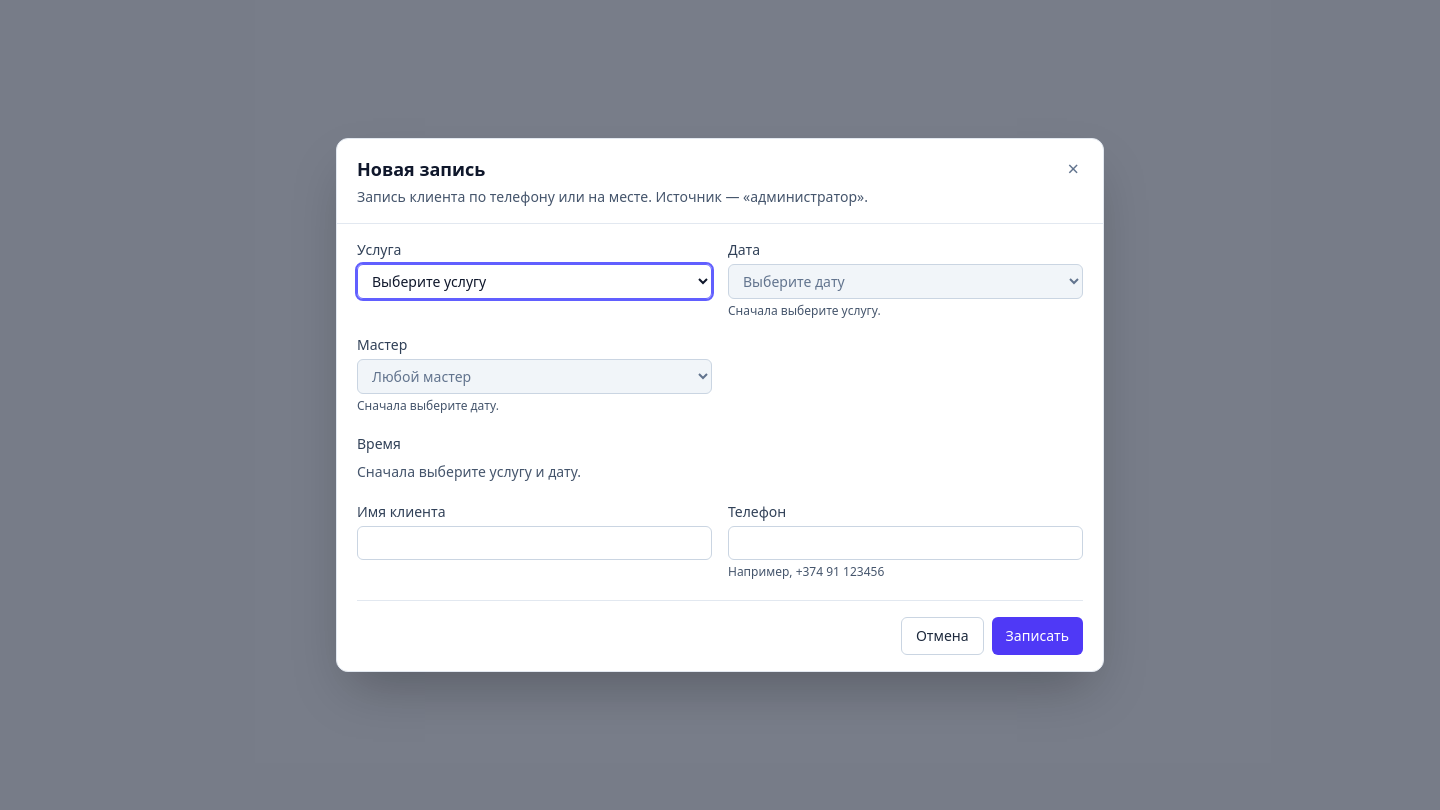
NewBookingDialog › проверяет поля на клиенте
Select "Мужская стрижка · 30 мин · 4 000 ֏" in the dropdown labelled "Услуга" at (534, 282), box [357,264,712,299]
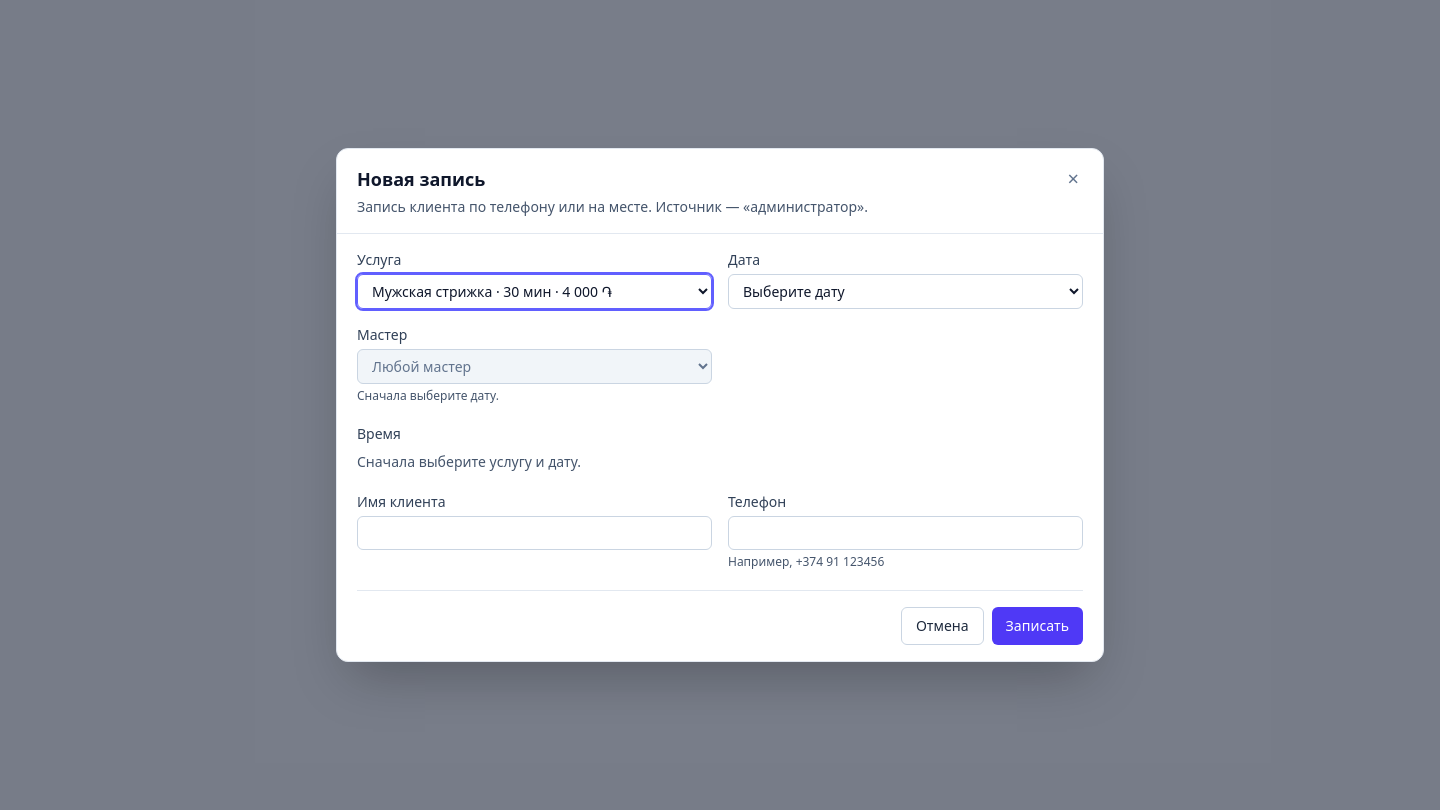
Expected: the dropdown labelled "Дата" is enabled
Select "Завтра, чт, 29 октября" in the dropdown labelled "Дата" at (906, 292), box [728,274,1083,309]
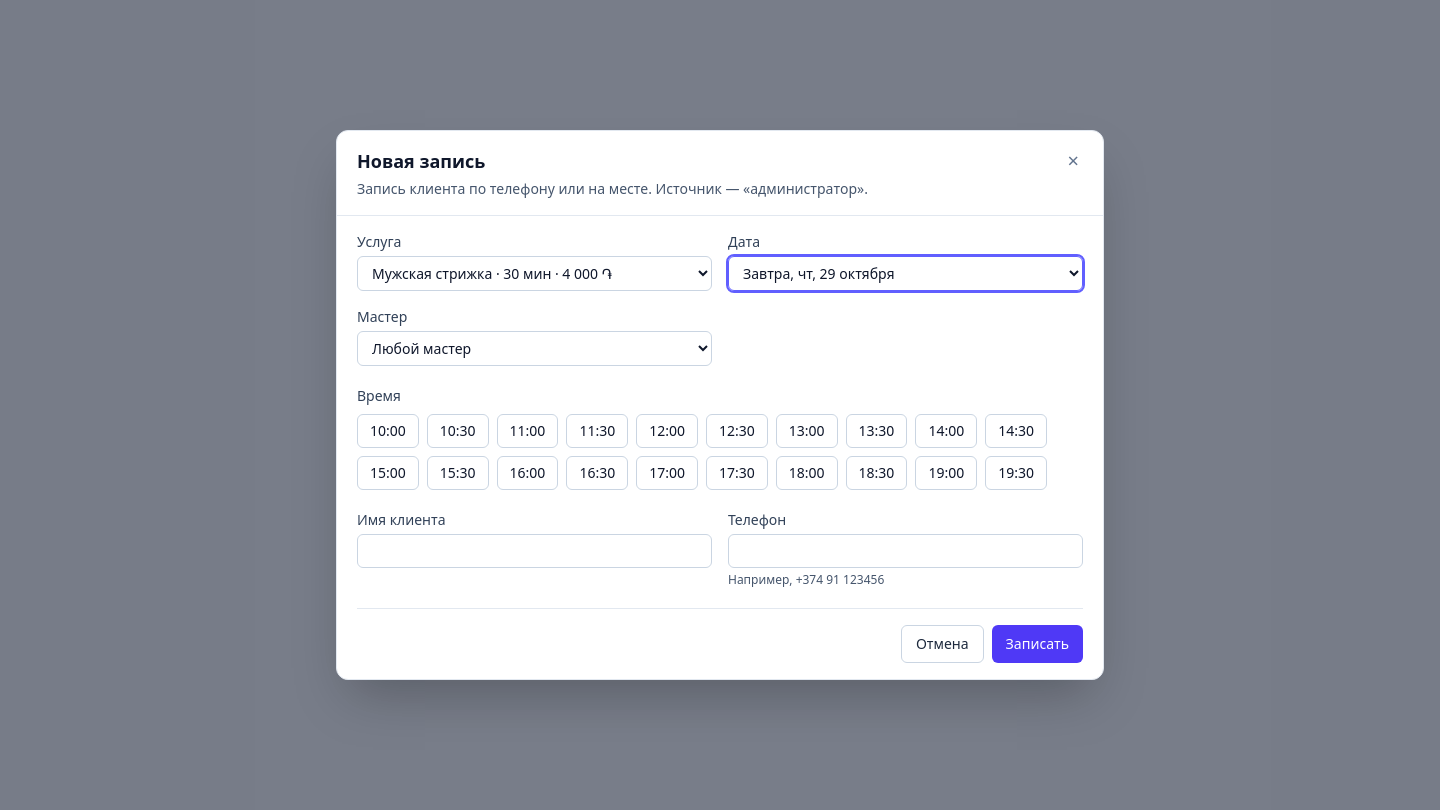
Click the radio button labelled "12:00" at (667, 431), box [636,414,698,448]
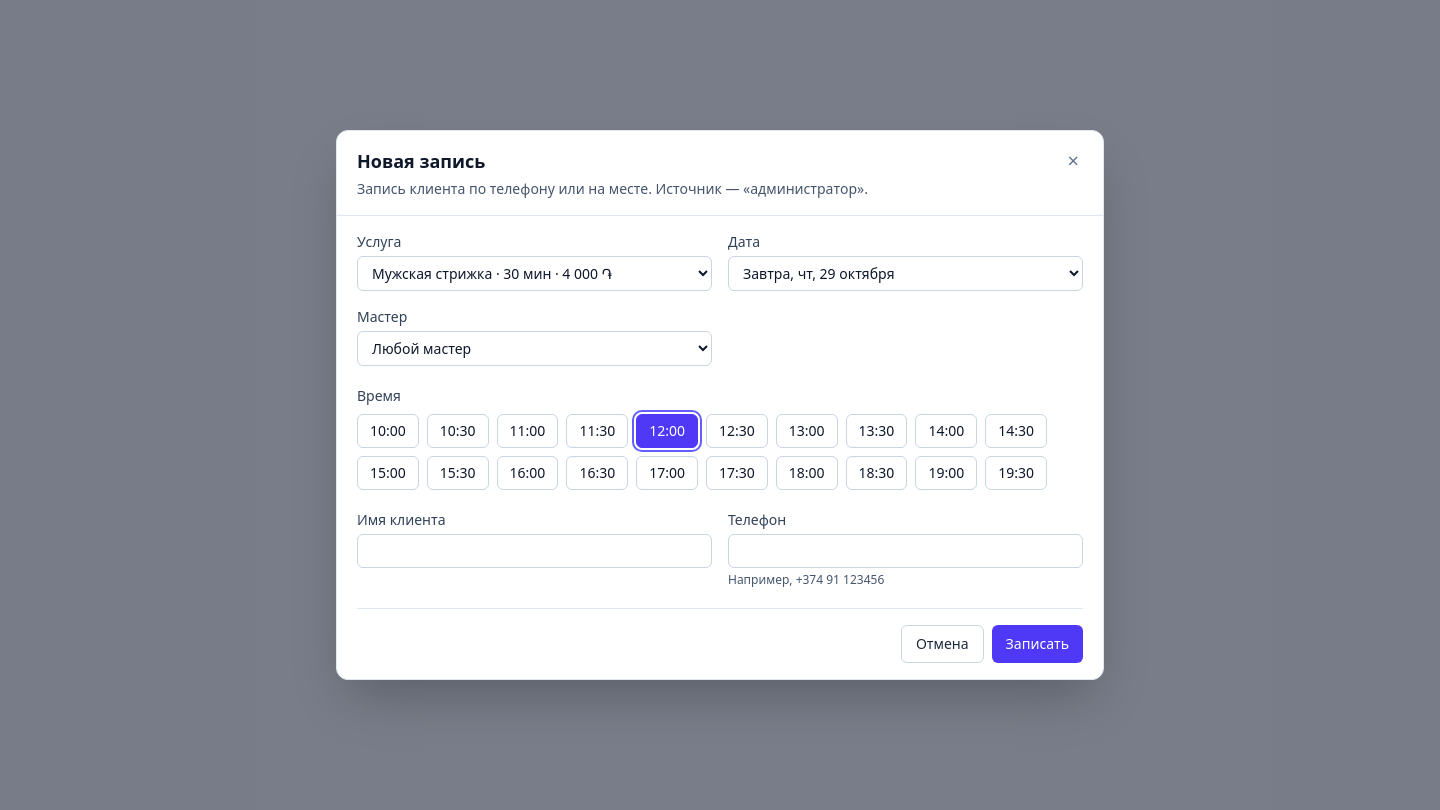
Type "Г" into the field labelled "Имя клиента" at (534, 551), box [357,534,712,568]
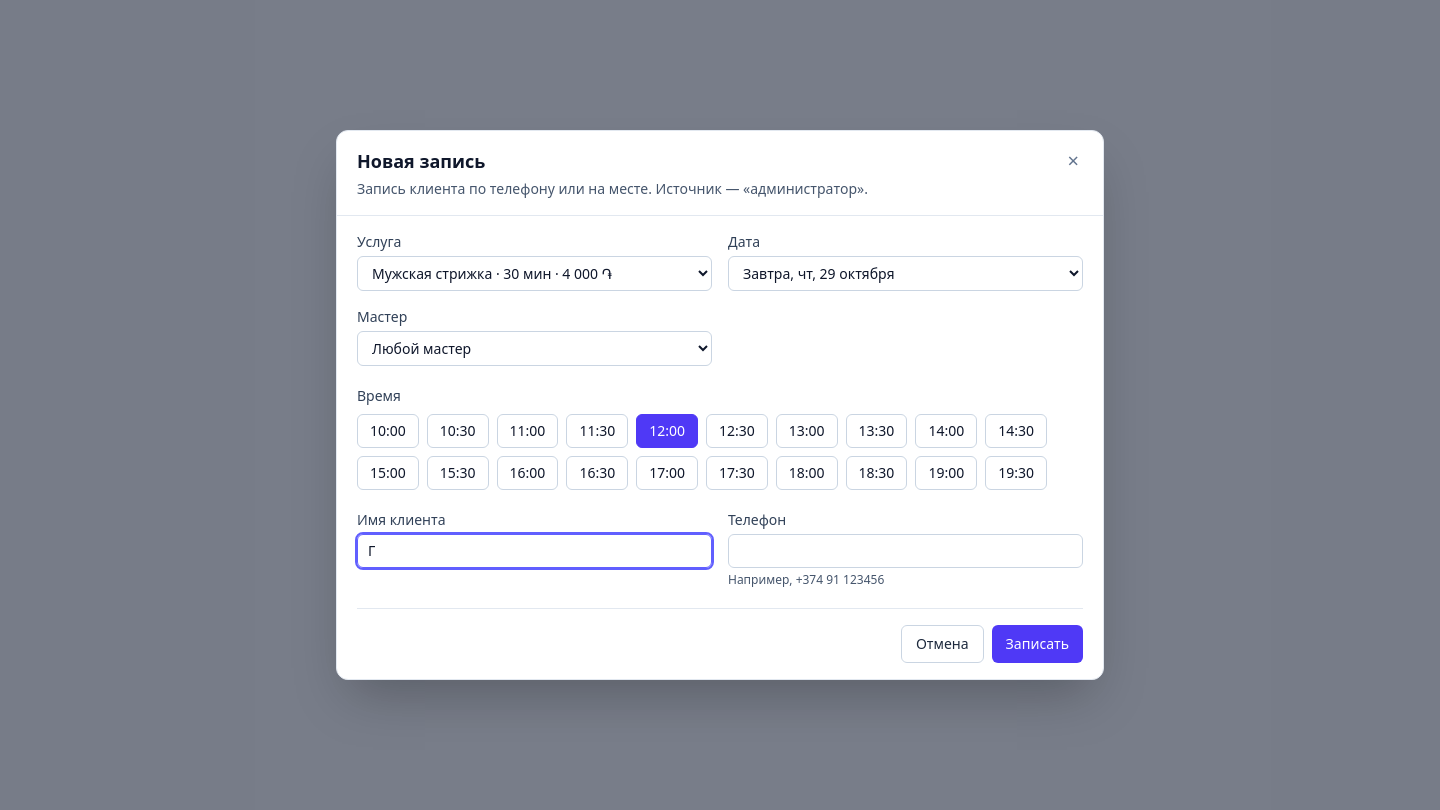
Type "12ab" into the field labelled "Телефон" at (906, 551), box [728,534,1083,568]
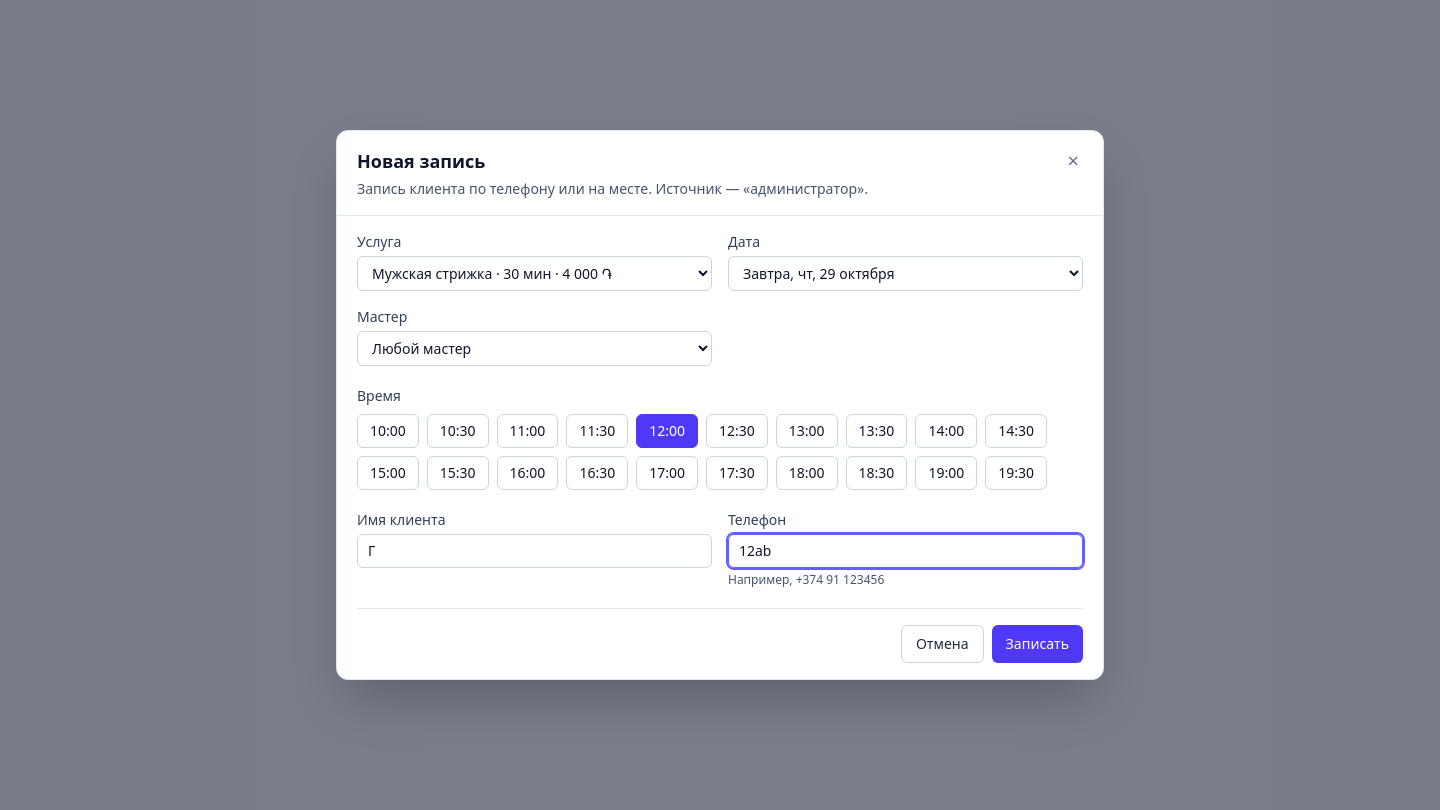
Click the button "Записать" at (1037, 644), box [992,625,1083,663]
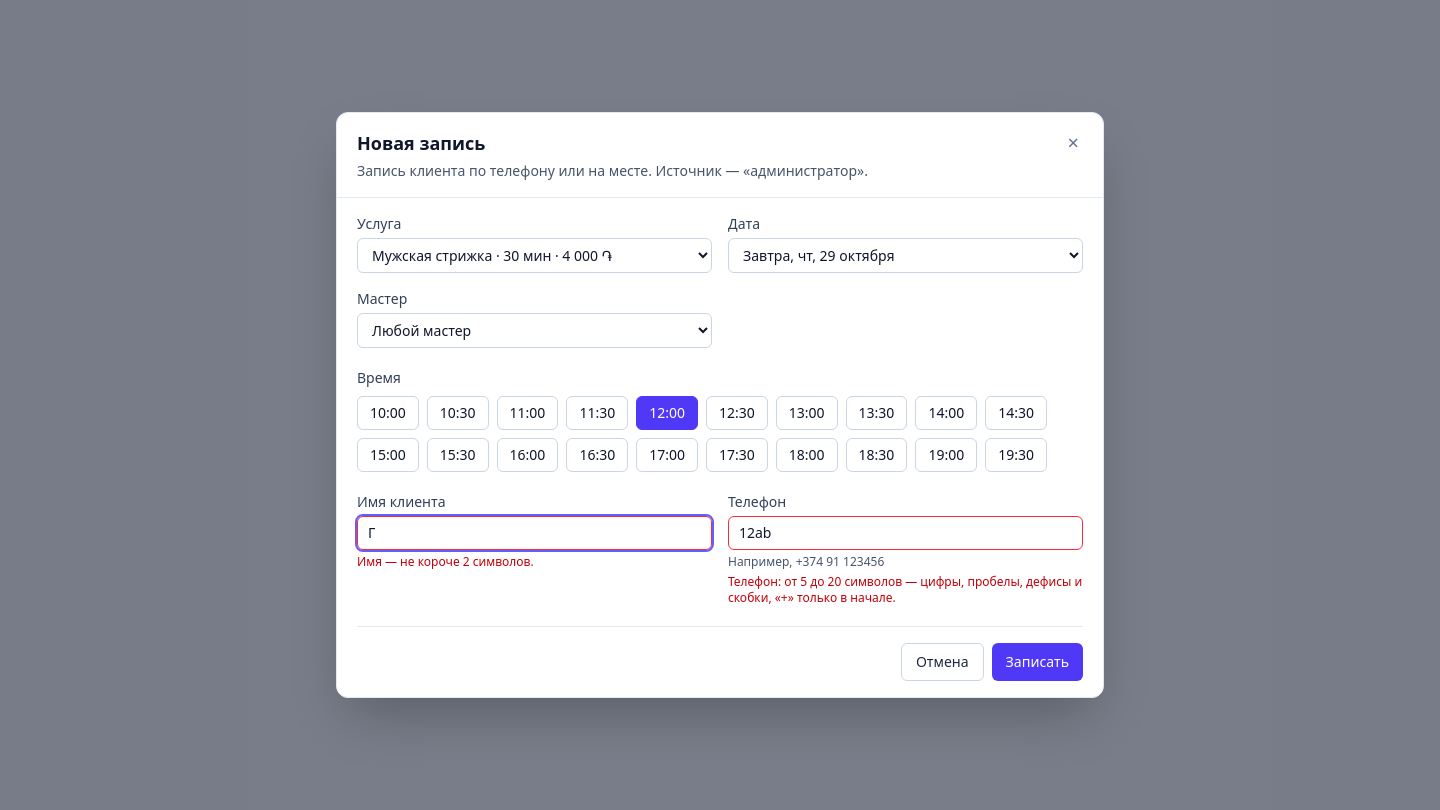
Expected: the text "Имя — не короче 2 символов." is shown, [357,553,534,570]
Expected: the text "«+» только в начале" is shown, [728,573,1082,606]
